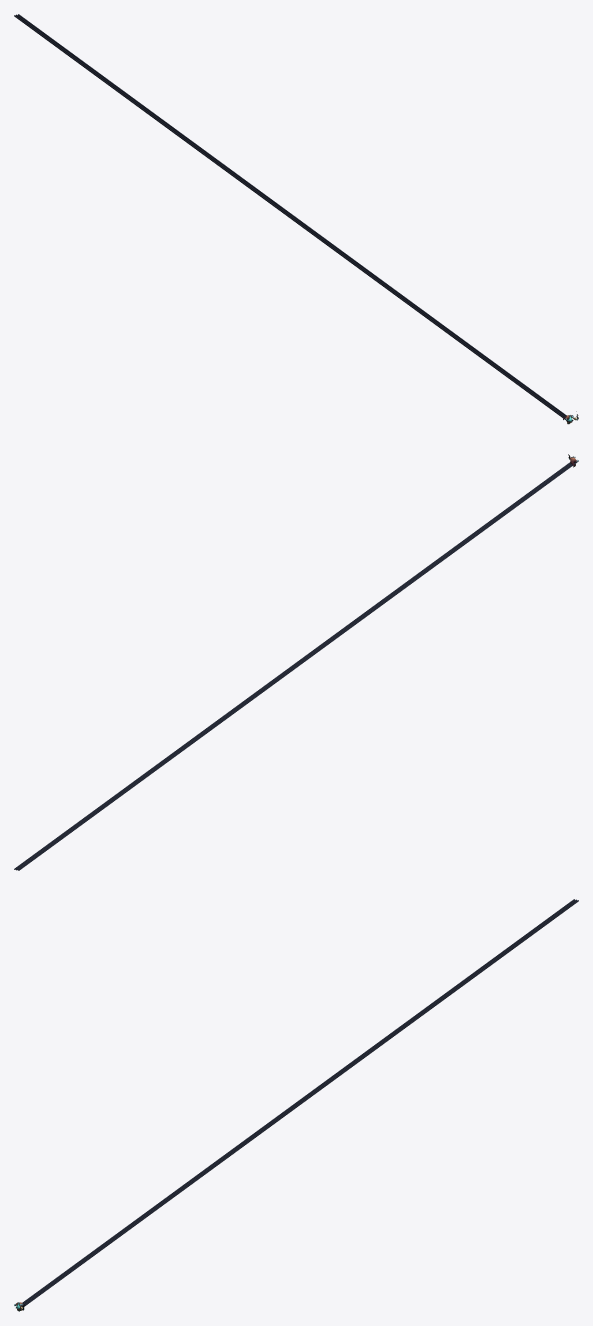
File: boss.obj
The picture shows the model from 3 angles, top to bottom: view 1: azimuth 30°, elevation 25°; view 2: azimuth 150°, elevation 25°; view 3: azimuth 330°, elevation 25°; orthographic projection.
Visible parts, largest first — view 1: Cube.002; view 2: Cube.002; view 3: Cube.002.
Part boxes in pixels (bbox=[...]): Cube.002: bbox=[14, 14, 573, 421]; Cube.002: bbox=[14, 462, 576, 870]; Cube.002: bbox=[16, 899, 578, 1309].
Bounding box in the file's own units: 12.32 × 11.96 × 1002.
